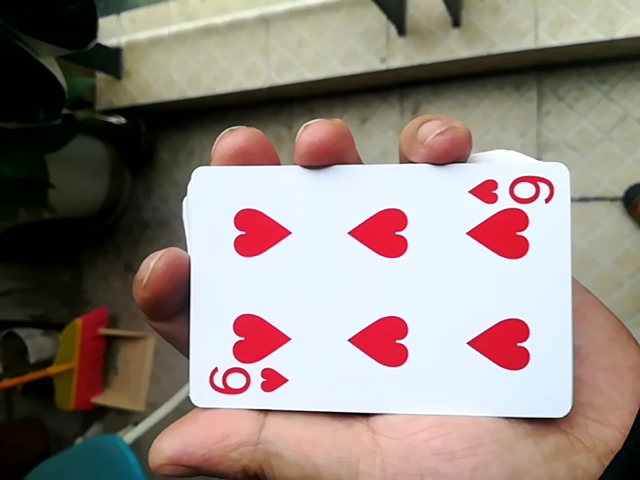hx 6: (172, 154, 568, 425)
